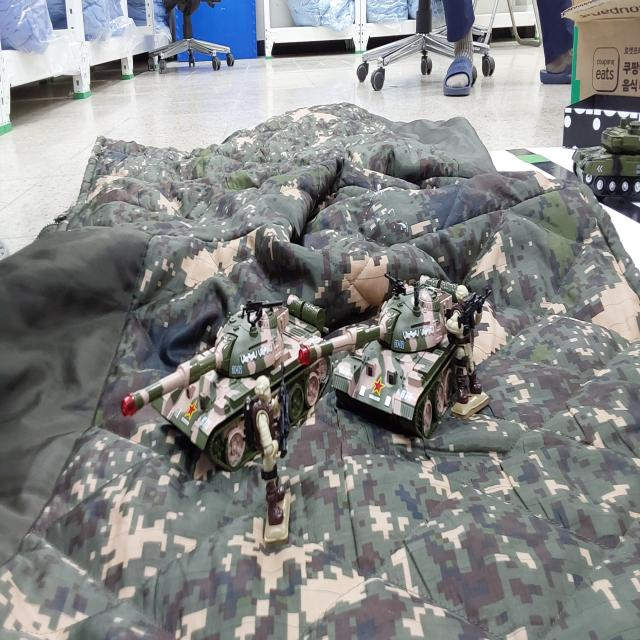ally: (252, 361, 290, 544), (445, 285, 490, 414)
